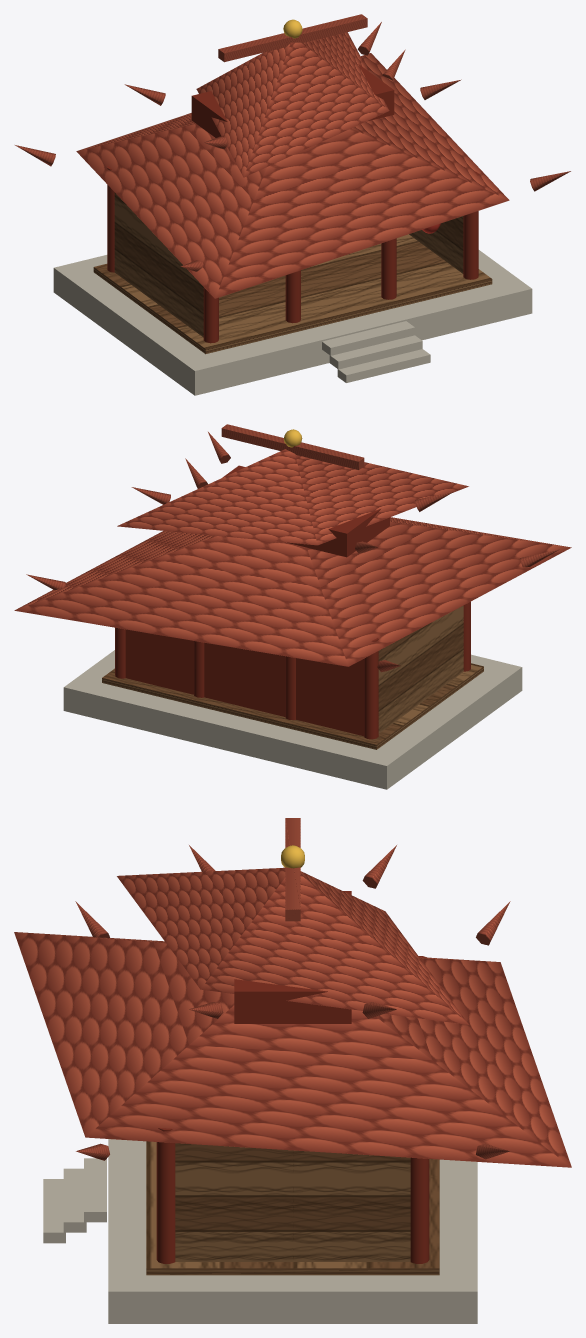
File: dinh.glb
3 renders of one model, top to bottom at view 1: azimuth 30°, elevation 25°; view 2: azimuth 150°, elevation 25°; view 3: azimuth 270°, elevation 25°, orthographic. The views are drawn at different scales.
Visible parts, largest first — view 1: dinh; view 2: dinh; view 3: dinh.
Part boxes in pixels (x1,y1,x2,y2): dinh: [15, 14, 570, 395]; dinh: [14, 424, 571, 789]; dinh: [14, 818, 571, 1323].
Size of the model in its own units: 2.32 by 1.6 by 2.19.
8 materials, 2 textured.
